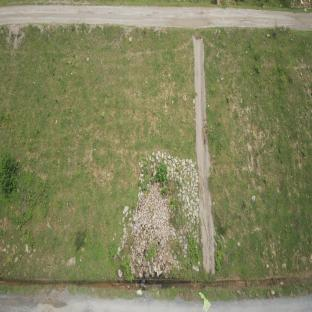rock_toe: (120, 154, 201, 277)
slope_drain: (191, 35, 215, 273)
toe_drain: (0, 274, 312, 290)
